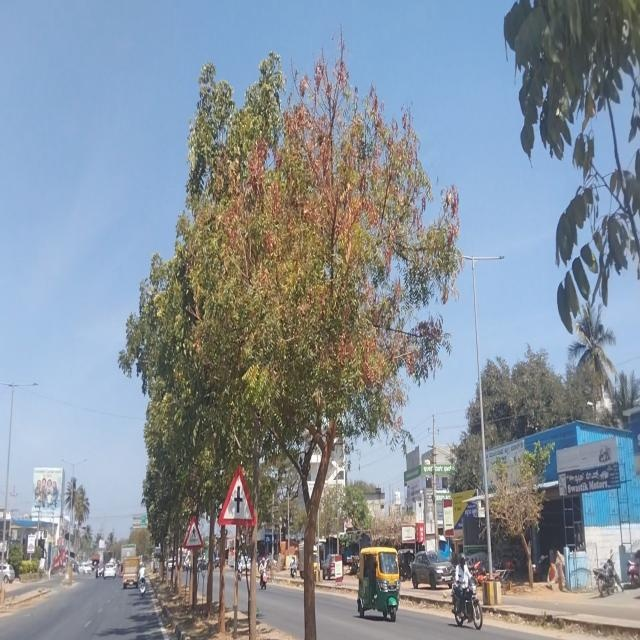bien_nguy_hiem: (217, 460, 255, 526), (185, 516, 202, 549)
